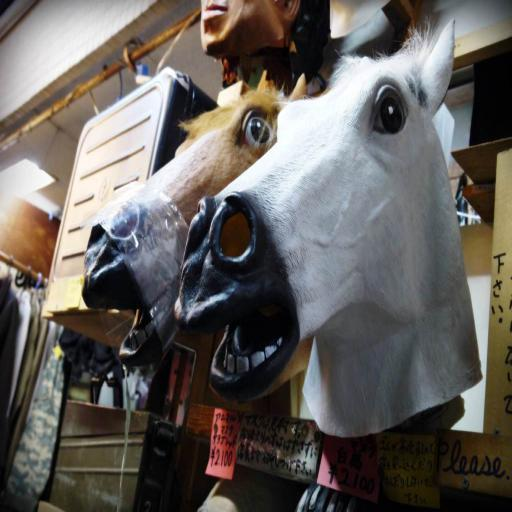horse: (173, 16, 485, 439), (82, 70, 308, 370)
